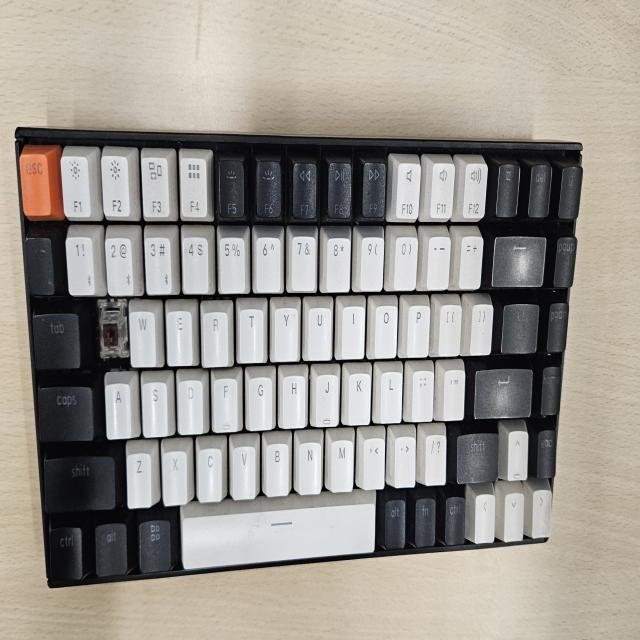C: (94, 304, 124, 371)
